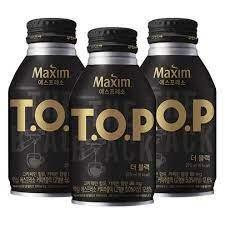TOP_black: (74, 23, 158, 205), (10, 17, 72, 200)
